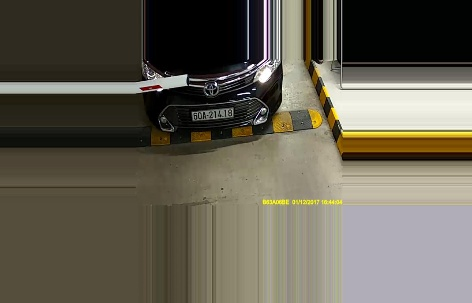plate: (189, 104, 236, 120)
